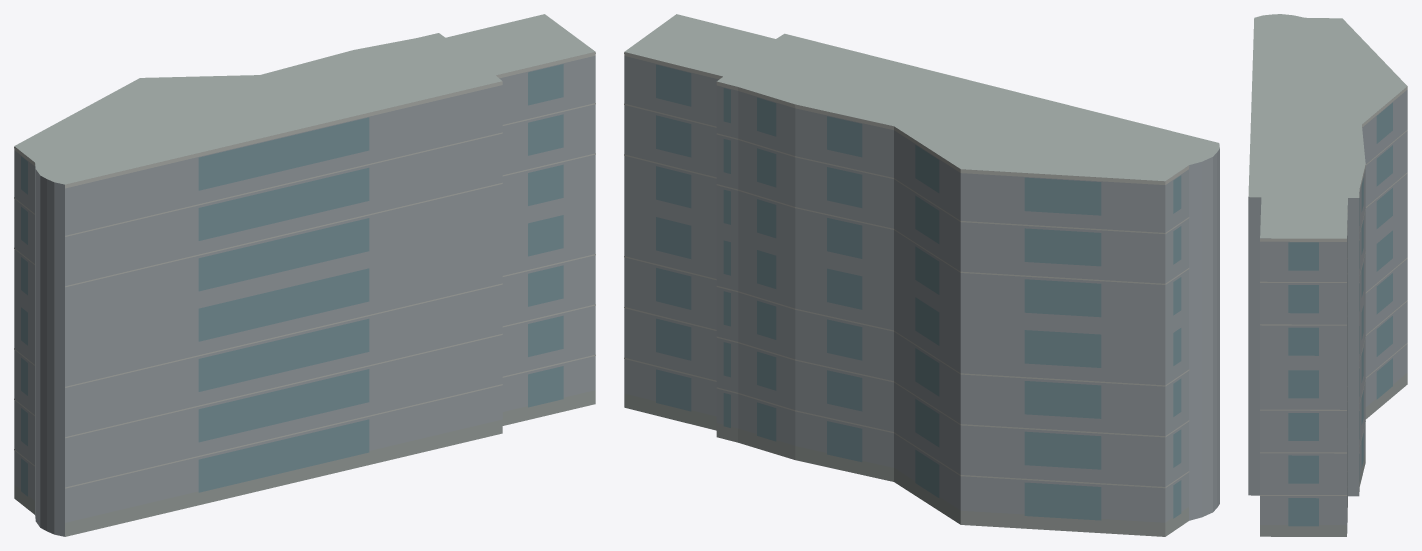
Rendered from survey-upis-32542013.glb.
3 renders of one model, left to right at view 1: azimuth 30°, elevation 25°; view 2: azimuth 150°, elevation 25°; view 3: azimuth 270°, elevation 25°, orthographic. The views are drawn at different scales.
Visible parts, largest first — view 1: survey-upis-32542013.tmp; view 2: survey-upis-32542013.tmp; view 3: survey-upis-32542013.tmp.
Boxes of the visible parts, bbox=[...] form: survey-upis-32542013.tmp: bbox=[14, 14, 595, 536]; survey-upis-32542013.tmp: bbox=[624, 14, 1219, 536]; survey-upis-32542013.tmp: bbox=[1248, 14, 1407, 536].
Bounding box in the file's own units: 35.55 × 22 × 10.66.
